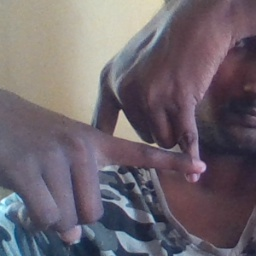H: (84, 78, 216, 192)
